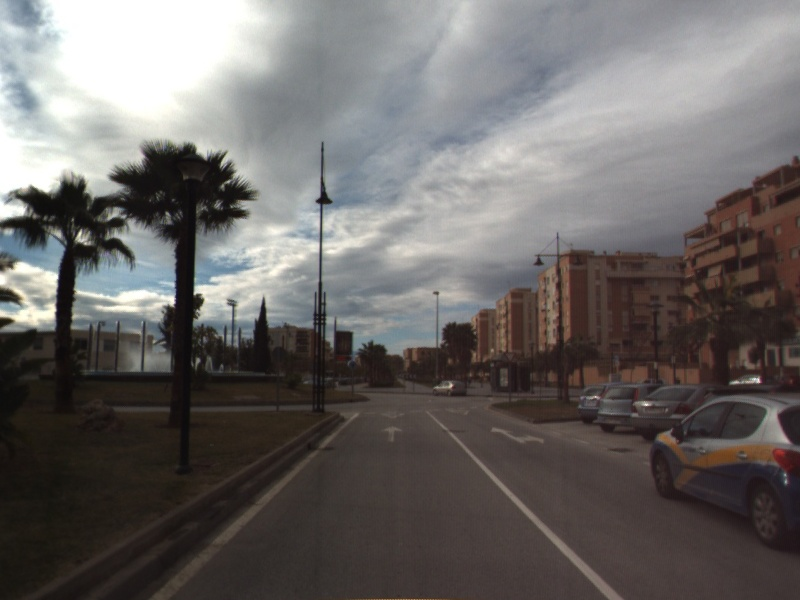STRAIGHT: (380, 424, 404, 444)
STRAIGHT_RIGHT: (489, 425, 546, 446)
